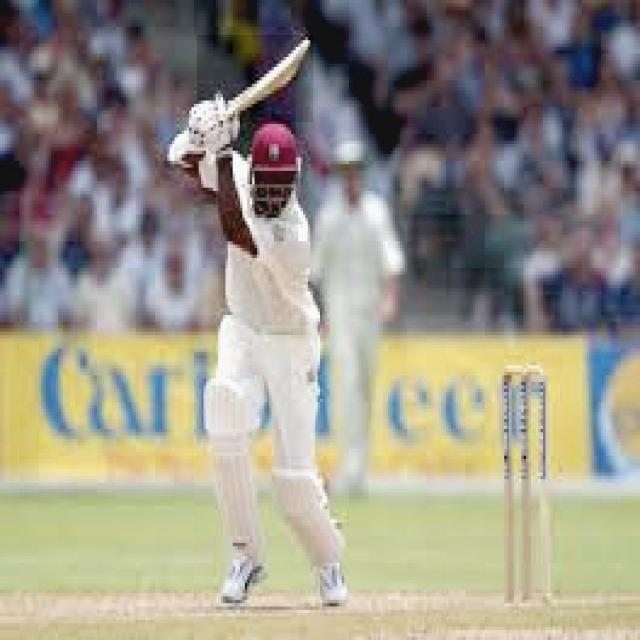bat: (201, 36, 315, 125)
toe: (305, 33, 315, 51)
